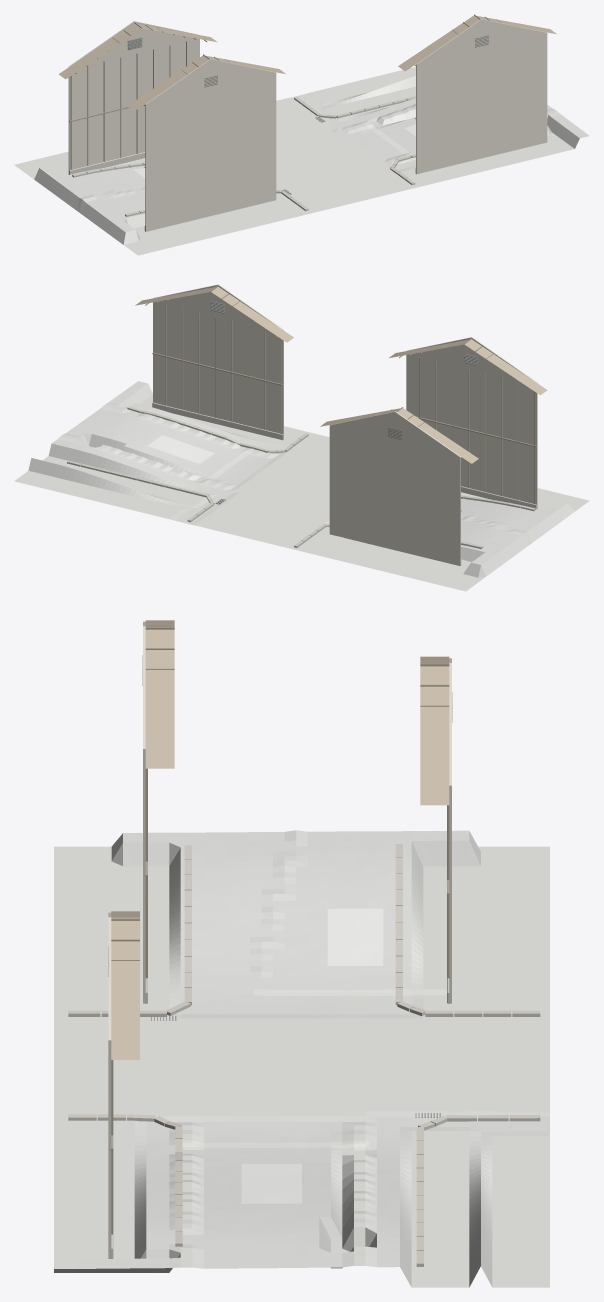
The model's file is junction-details.glb.
3 renders of one model, top to bottom at view 1: azimuth 30°, elevation 25°; view 2: azimuth 150°, elevation 25°; view 3: azimuth 270°, elevation 25°, orthographic. The views are drawn at different scales.
Visible parts, largest first — view 1: J_repair_plaster, J_ground, J_repair_soffit, J_repair_concrete, J_repair_wood, J_repair_metal; view 2: J_repair_plaster, J_ground, J_repair_soffit, J_repair_concrete, J_repair_wood, J_repair_roadmark, J_repair_metal; view 3: J_ground, J_repair_soffit, J_repair_concrete, J_repair_roadmark, J_repair_plaster, J_repair_paint, J_repair_wood.
Part boxes in pixels (box(x1,y1,x2,y2)): J_repair_plaster: box(68, 19, 547, 231); J_ground: box(14, 67, 589, 255); J_repair_soffit: box(59, 15, 556, 111); J_repair_concrete: box(69, 96, 415, 231); J_repair_wood: box(69, 14, 500, 169); J_repair_metal: box(127, 35, 488, 194); J_repair_plaster: box(153, 284, 537, 565); J_ground: box(14, 381, 589, 591); J_repair_soffit: box(135, 287, 547, 463); J_repair_concrete: box(67, 402, 536, 565); J_repair_wood: box(145, 286, 537, 511); J_repair_roadmark: box(148, 435, 214, 463); J_repair_metal: box(210, 301, 478, 504); J_ground: box(54, 830, 549, 1287); J_repair_soffit: box(111, 620, 449, 1059); J_repair_concrete: box(68, 844, 540, 1266); J_repair_roadmark: box(241, 908, 383, 1203); J_repair_plaster: box(108, 621, 451, 1258); J_repair_paint: box(182, 989, 452, 1148); J_repair_wood: box(109, 626, 450, 1234).
Bounding box in the file's own units: 22.5 × 7.48 × 10.7.
